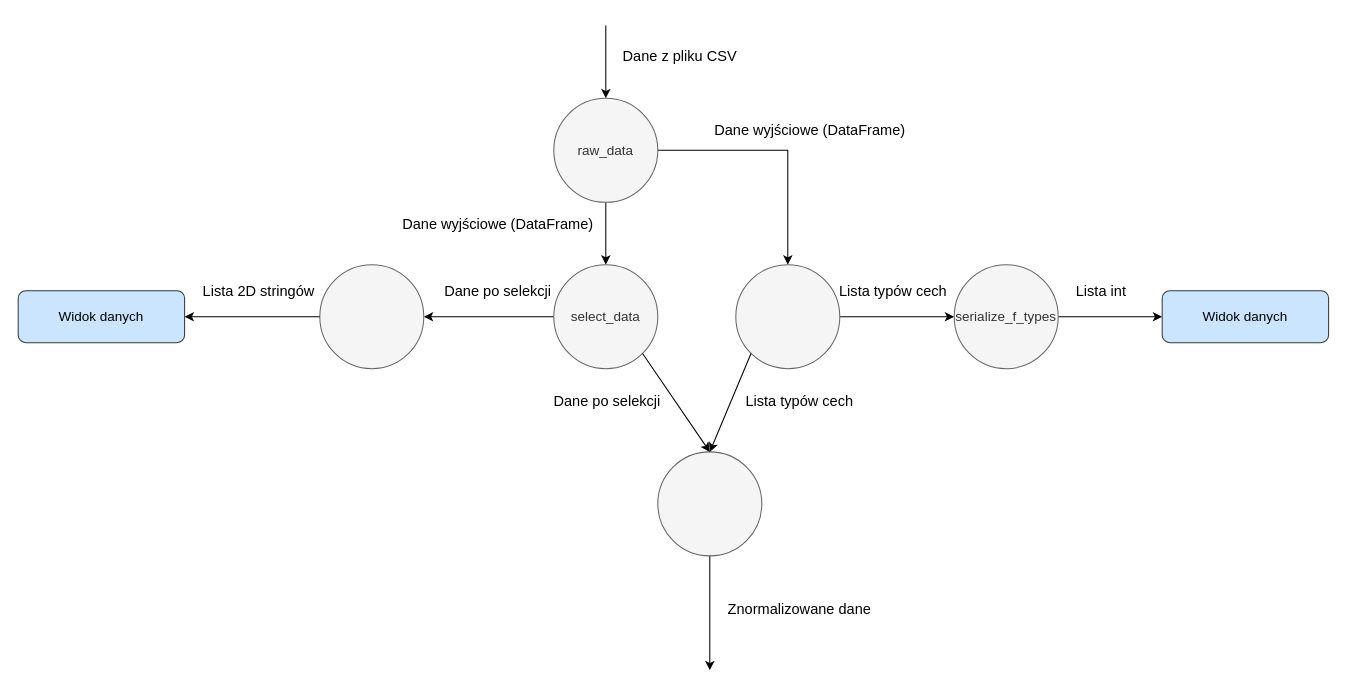
This 1347x697 diagram has some shape labels left out. The shapes that lost their labels are listed below. From the top down, each one's box as (x1, y1, x2, y2) in pixels, then its label:
(319, 264, 424, 369): serialize_data
(735, 264, 840, 369): extract_f_types
(657, 451, 762, 556): normalize_data
